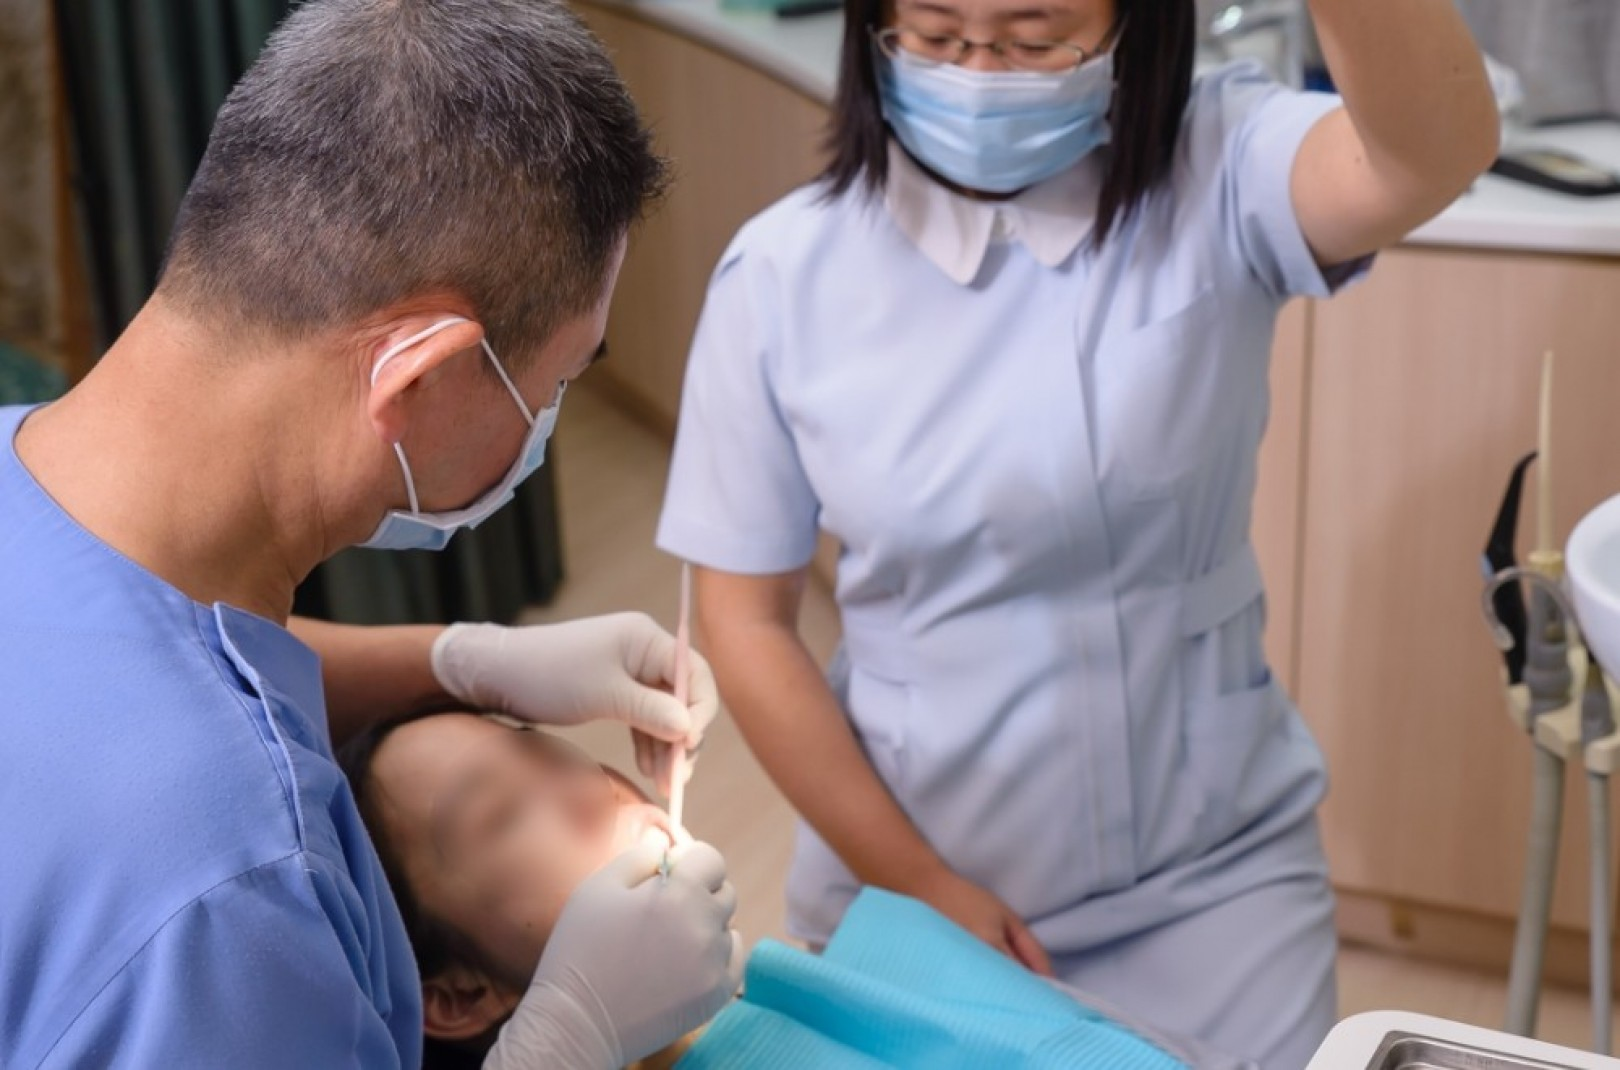mask: (868, 31, 1119, 196)
